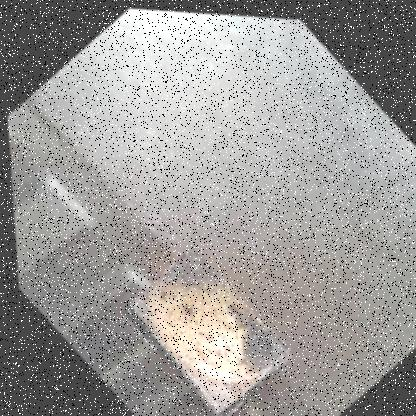mango_rotten: (111, 239, 291, 415)
